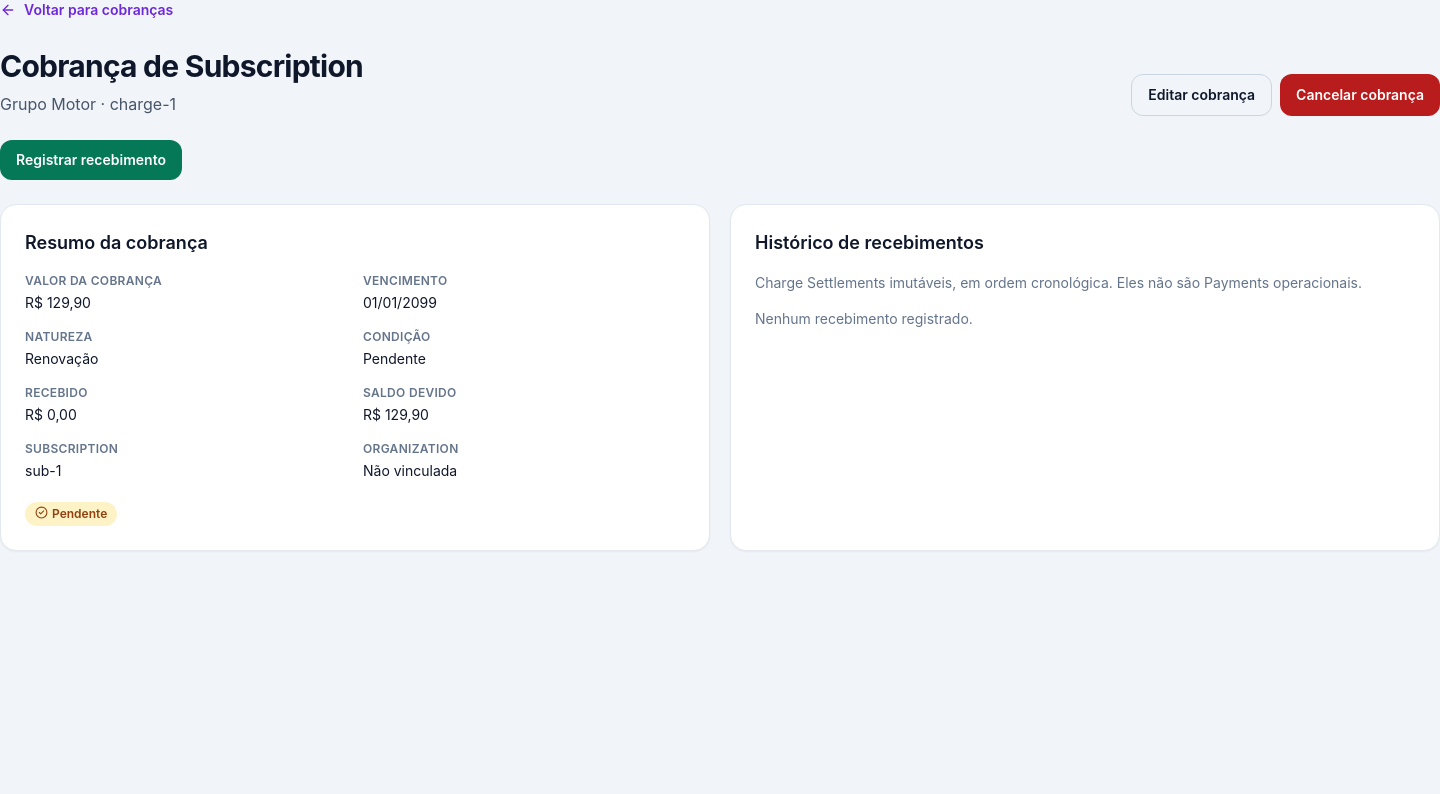
Test: Platform subscription charges › updates with a required reason, keeps settled amount immutable and shows mutation errors separately
This screenshot has width=1440, height=794.
Click the button "Editar cobrança": {"x": 1202, "y": 95} [1131,74,1272,116]
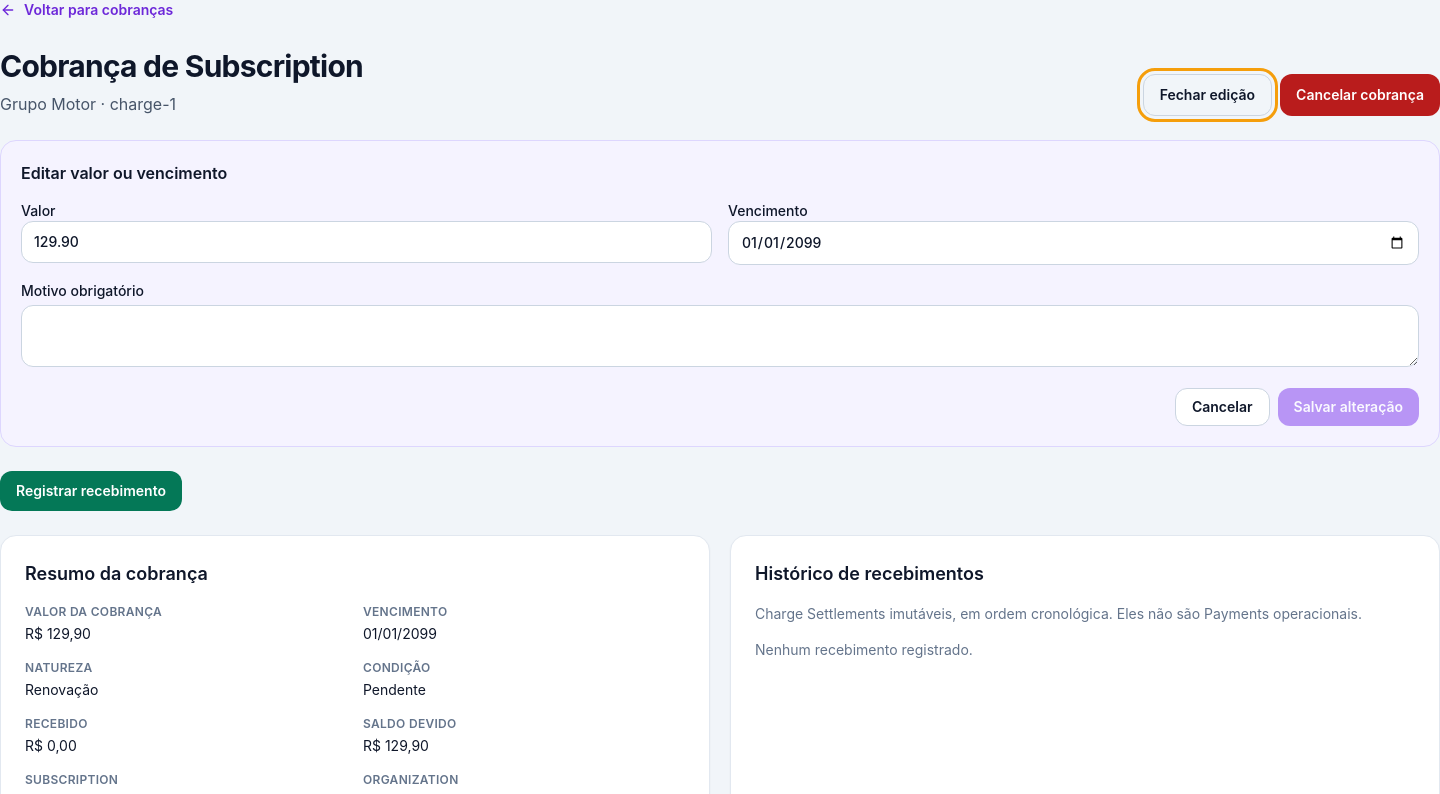
Replace the text in the field named "Novo valor" with "139.90": {"x": 366, "y": 242} [21,221,712,263]
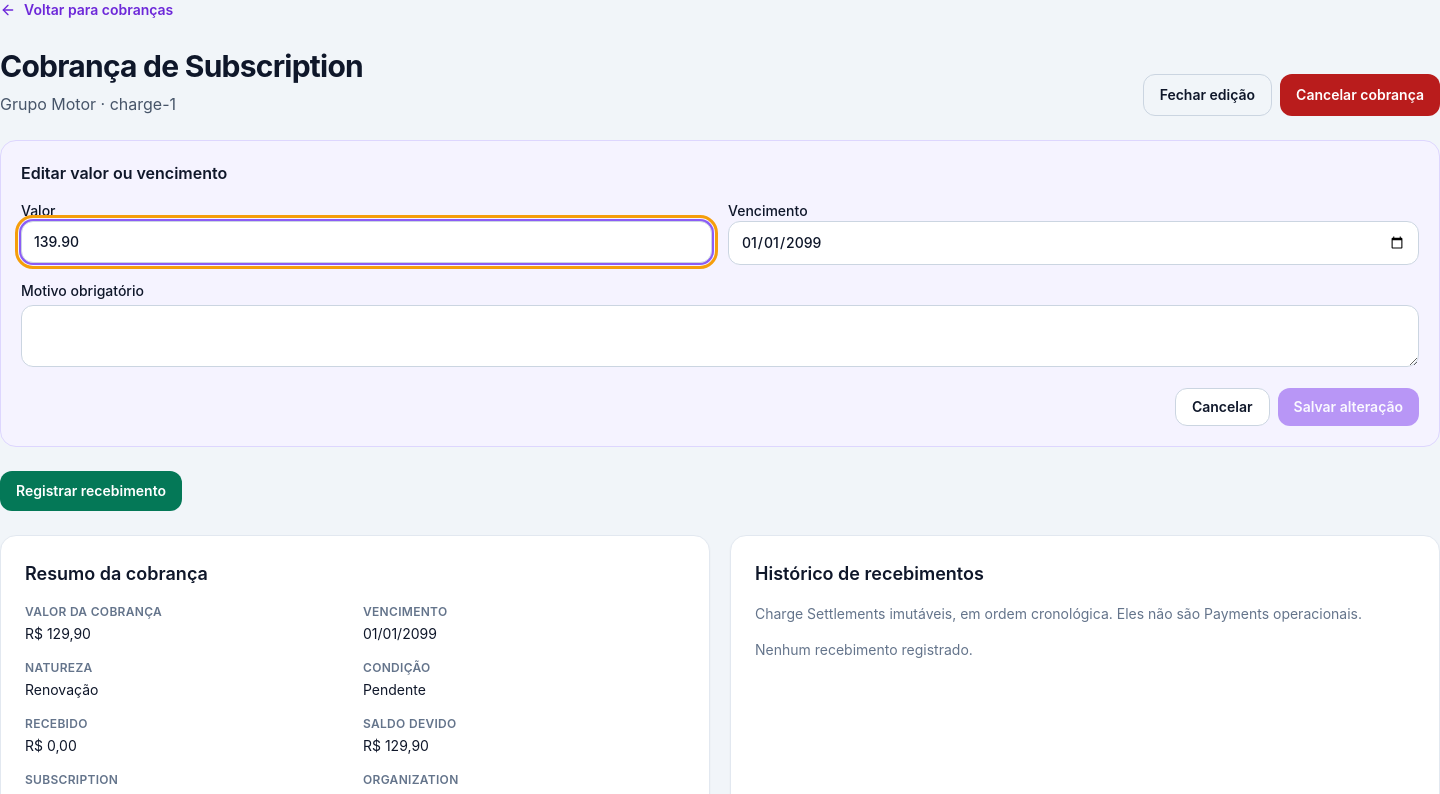
In the text box named "Motivo da alteração": {"x": 720, "y": 336} [21,305,1419,367], type "Correção comercial"
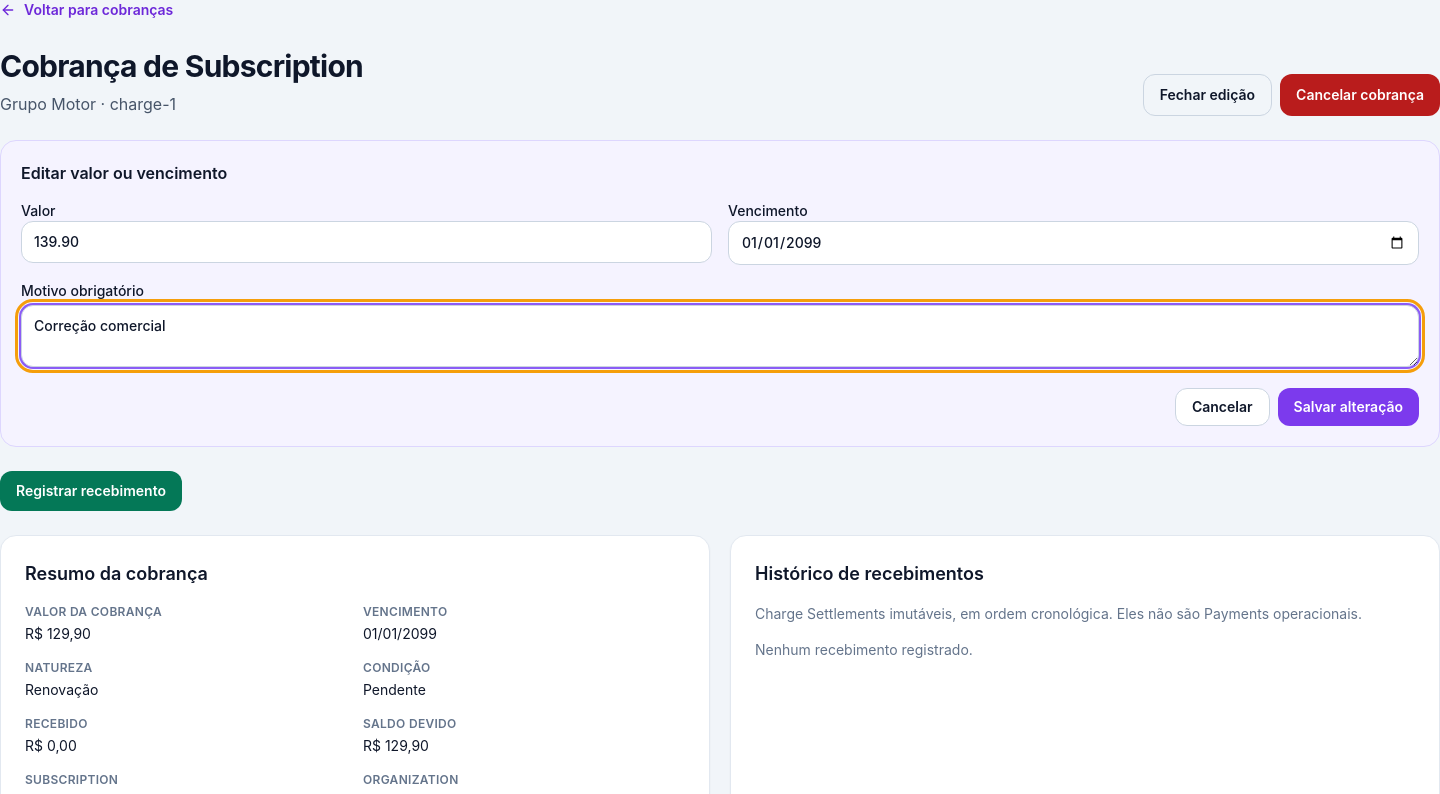
Click the button "Salvar alteração": {"x": 1348, "y": 407} [1278,388,1419,426]
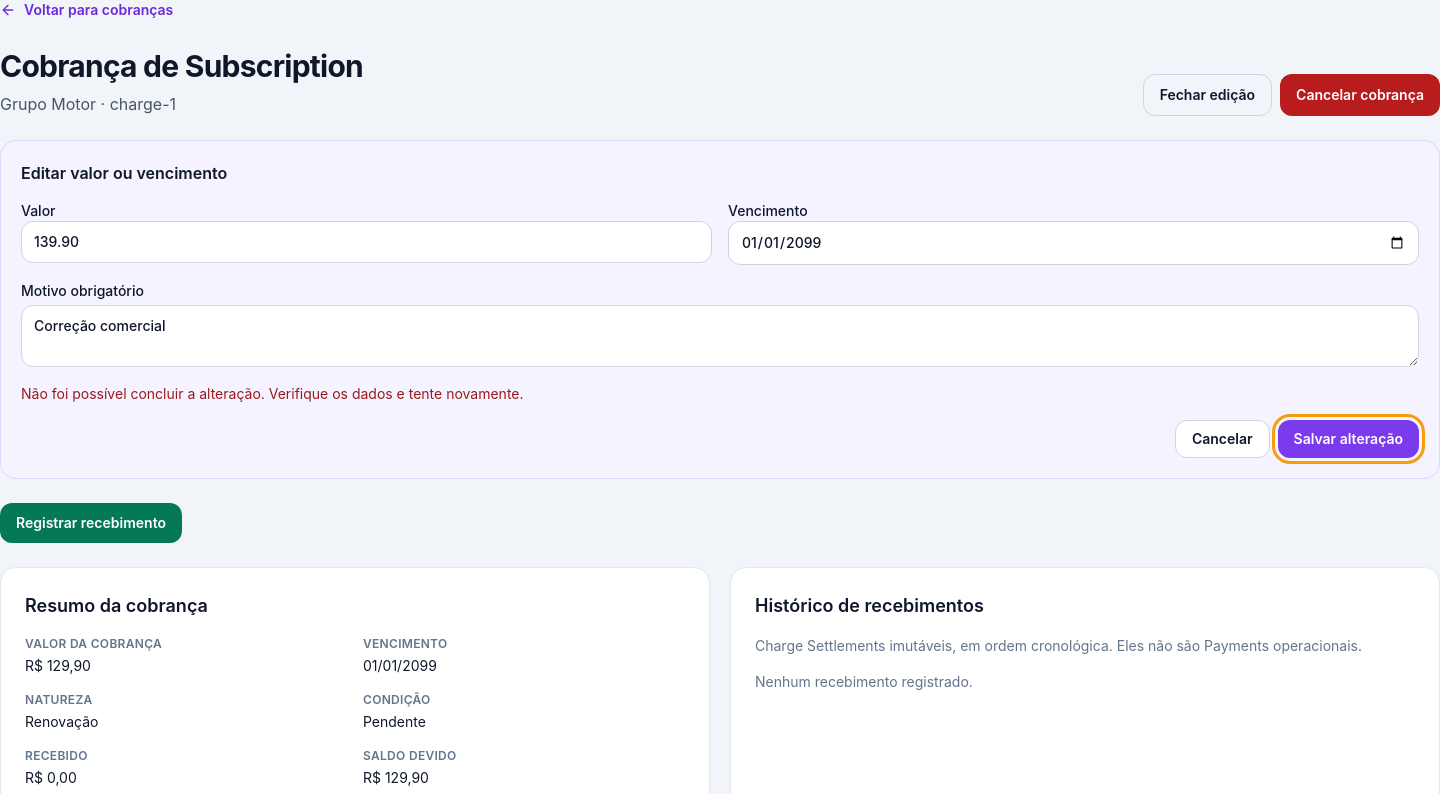
Now the message shows "Não foi possível concluir a alteração.", box [21,385,524,402]
